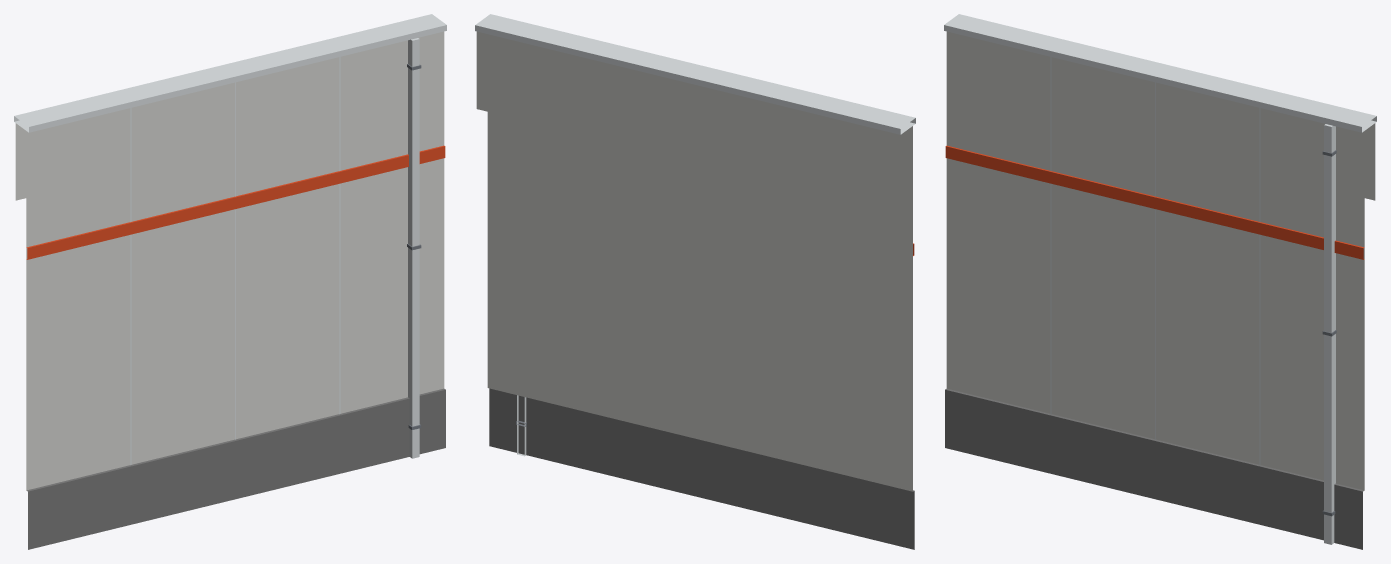
Rendered from base-w2_close.fbx.
The picture shows the model from 3 angles, left to right: view 1: azimuth 30°, elevation 25°; view 2: azimuth 150°, elevation 25°; view 3: azimuth 330°, elevation 25°; orthographic projection.
Visible parts, largest first — view 1: a2003/400/base-w2_close; view 2: a2003/400/base-w2_close; view 3: a2003/400/base-w2_close.
Part boxes in pixels (bbox=[...]): a2003/400/base-w2_close: bbox=[14, 14, 446, 549]; a2003/400/base-w2_close: bbox=[475, 14, 915, 549]; a2003/400/base-w2_close: bbox=[944, 14, 1376, 549].
Size of the model in its own units: 4.5 by 4.36 by 0.32.
